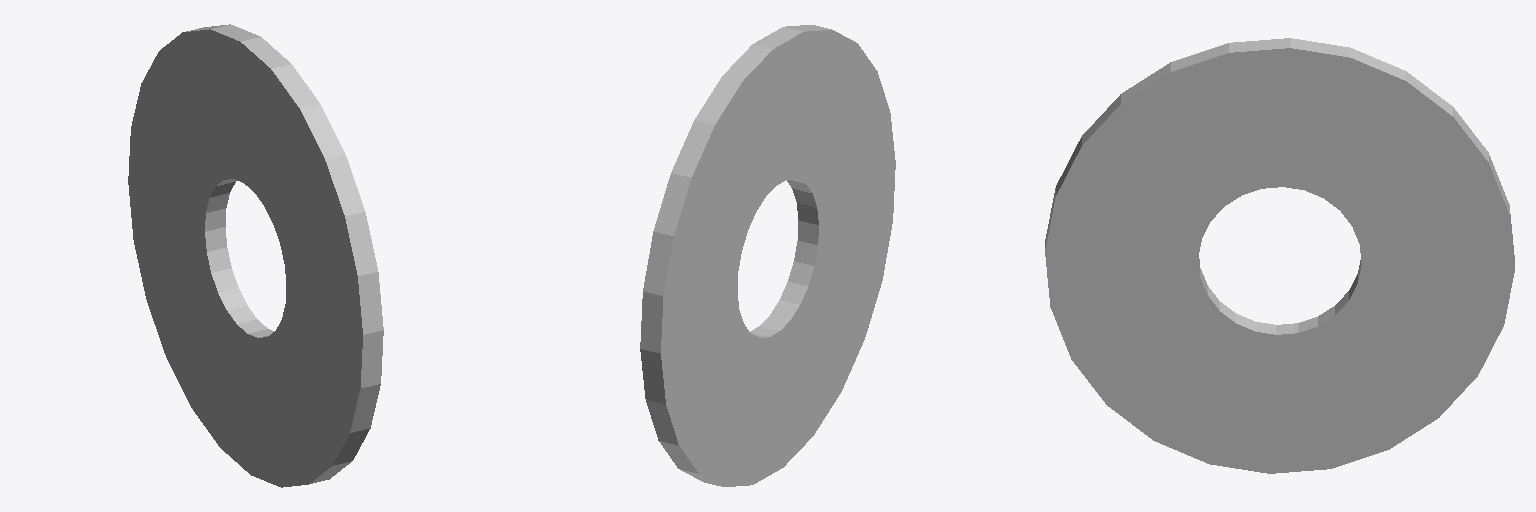
Rendered from original-23.obj.
3 renders of one model, left to right at view 1: azimuth 30°, elevation 25°; view 2: azimuth 150°, elevation 25°; view 3: azimuth 270°, elevation 25°, orthographic.
Visible parts, largest first — view 1: Group12/mesh12/mesh12-geometry#mesh12-geometry; view 2: Group12/mesh12/mesh12-geometry#mesh12-geometry; view 3: Group12/mesh12/mesh12-geometry#mesh12-geometry.
Part boxes in pixels (x1,y1,x2,y2): Group12/mesh12/mesh12-geometry#mesh12-geometry: (128,24,383,487); Group12/mesh12/mesh12-geometry#mesh12-geometry: (640,25,895,486); Group12/mesh12/mesh12-geometry#mesh12-geometry: (1045,38,1514,473).
Size of the model in its own units: 0.003 by 0.0588 by 0.0588.